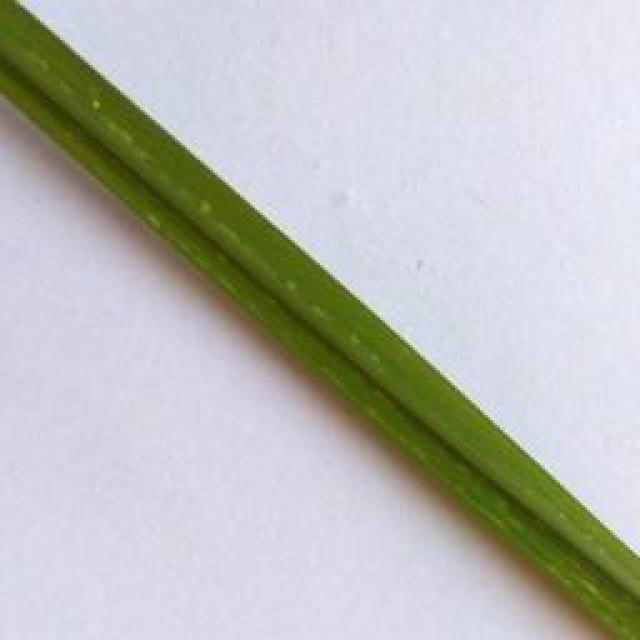Bacterial_Blight: (540, 537, 640, 640), (320, 366, 426, 459), (141, 209, 229, 289), (76, 80, 114, 126), (192, 192, 221, 226), (281, 270, 304, 304)
